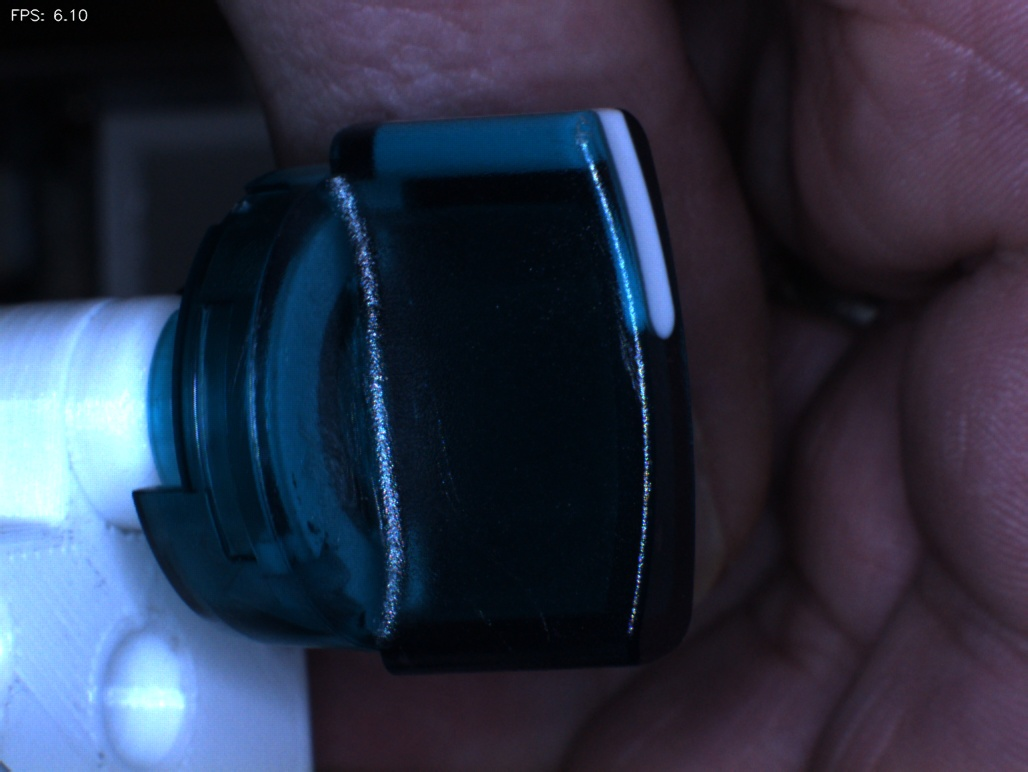Givrage: (426, 420, 548, 639), (323, 380, 372, 504)
